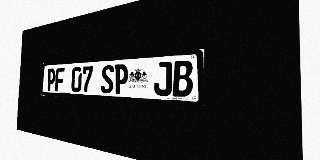0: (71, 67, 82, 92)
7: (81, 66, 93, 93)
B: (172, 60, 193, 97)
F: (55, 68, 65, 92)
J: (154, 61, 172, 96)
P: (114, 64, 128, 94), (46, 68, 56, 91)
S: (101, 65, 114, 94)
